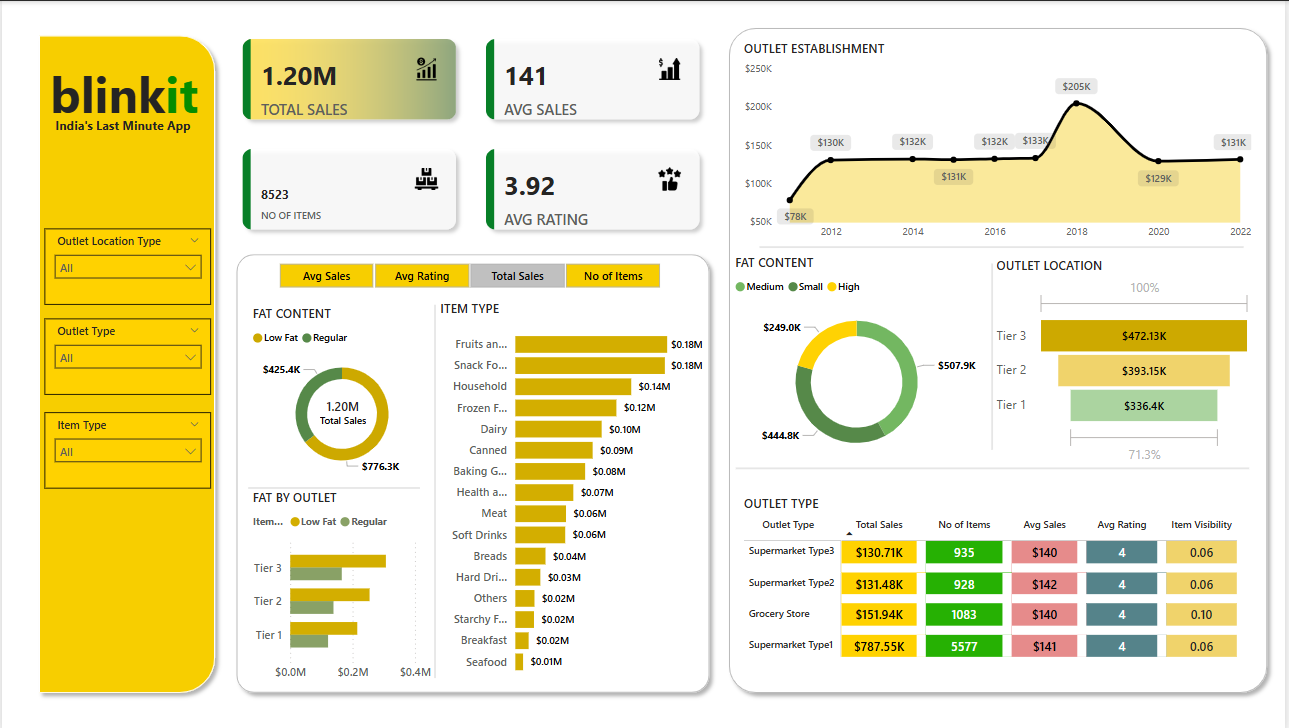

The page's visual inventory and layout, read from the dashboard file:
{"tool":"powerbi","page":{"name":"Page 1","canvas":[1400,800],"ordinal":0},"visuals":[{"type":"shape","box":[31.7,28.3,210,735],"z":0},{"type":"textbox","box":[48,60,194,82],"z":1000},{"type":"textbox","box":[53.8,121.9,166.2,30],"z":2000},{"type":"cardVisual","fields":{"Data":["BlinkIT Grocery Data.Total Sales","BlinkIT Grocery Data.Avg Sales","BlinkIT Grocery Data.No of Items","BlinkIT Grocery Data.Avg Rating"]},"box":[245.4,24.8,532.9,242.9],"z":3000},{"type":"shape","box":[246.2,267.5,533.8,496.2],"z":4000},{"type":"donutChart","title":"FAT CONTENT","fields":{"Y":["BlinkIT Grocery Data.Total Sales"],"Category":["BlinkIT Grocery Data.Item Fat Content"]},"box":[268.3,331.7,205,193.3],"z":5000},{"type":"slicer","fields":{"Values":["Metrics.Metrics"]},"box":[276.2,280,465,40],"z":6000},{"type":"cardVisual","fields":{"Data":["BlinkIT Grocery Data.Total Sales"]},"box":[320,413.3,103.3,70],"z":7000},{"type":"clusteredBarChart","title":"FAT BY OUTLET","fields":{"Y":["BlinkIT Grocery Data.Total Sales"],"Category":["BlinkIT Grocery Data.Outlet Location Type"],"Series":["BlinkIT Grocery Data.Item Fat Content"]},"box":[268.3,531.7,205,218.3],"z":8000},{"type":"shape","box":[268.8,525,187.5,12.5],"z":9000},{"type":"shape","box":[463.8,331.2,17.5,407.5],"z":10000},{"type":"barChart","title":"ITEM TYPE","fields":{"Y":["BlinkIT Grocery Data.Total Sales"],"Category":["BlinkIT Grocery Data.Item Type"]},"box":[472.5,326.2,296.2,418.8],"z":11000},{"type":"shape","box":[783.3,20,605,743.3],"z":12000},{"type":"lineChart","title":"OUTLET ESTABLISHMENT","fields":{"Category":["BlinkIT Grocery Data.Outlet Establishment Year"],"Y":["BlinkIT Grocery Data.Total Sales"]},"box":[805,41.7,563.3,226.7],"z":13000},{"type":"shape","box":[826.7,261.7,528.3,13.3],"z":14000},{"type":"donutChart","title":"FAT CONTENT","fields":{"Y":["BlinkIT Grocery Data.Total Sales"],"Category":["BlinkIT Grocery Data.Outlet Size"]},"box":[795,275,275,235],"z":15000},{"type":"shape","box":[1071.7,286.7,16.7,203.3],"z":16000},{"type":"funnel","title":"OUTLET LOCATION","fields":{"Category":["BlinkIT Grocery Data.Outlet Location Type"],"Y":["BlinkIT Grocery Data.Total Sales"]},"box":[1080,280,288.3,230],"z":17000},{"type":"shape","box":[800,503.3,560,13.3],"z":18000},{"type":"pivotTable","title":"OUTLET TYPE","fields":{"Rows":["BlinkIT Grocery Data.Outlet Type"],"Values":["BlinkIT Grocery Data.Total Sales","BlinkIT Grocery Data.No of Items","BlinkIT Grocery Data.Avg Sales","BlinkIT Grocery Data.Avg Rating","Avg(BlinkIT Grocery Data.Item Visibility)"]},"box":[805,538.3,571.7,186.7],"z":19000},{"type":"slicer","fields":{"Values":["BlinkIT Grocery Data.Outlet Location Type"]},"box":[46.7,248.3,181.7,83.3],"z":19001},{"type":"slicer","fields":{"Values":["BlinkIT Grocery Data.Outlet Type"]},"box":[46.7,346.7,181.7,83.3],"z":19002},{"type":"slicer","fields":{"Values":["BlinkIT Grocery Data.Item Type"]},"box":[46.7,448.3,181.7,83.3],"z":19003}]}

Visuals, with their boxes in screenshot pixels (x1, y1, x2, y2), scaled from the page's 1400x800 canvas onto the 1289x728 screenshot:
shape: (29, 26, 223, 695)
textbox: (44, 55, 223, 129)
textbox: (50, 111, 203, 138)
cardVisual - BlinkIT Grocery Data.Total Sales x BlinkIT Grocery Data.Avg Sales: (226, 23, 717, 244)
shape: (227, 243, 718, 695)
"FAT CONTENT" donutChart: (247, 302, 436, 478)
slicer - Metrics.Metrics: (254, 255, 682, 291)
cardVisual - BlinkIT Grocery Data.Total Sales: (295, 376, 390, 440)
"FAT BY OUTLET" clusteredBarChart: (247, 484, 436, 682)
shape: (247, 478, 420, 489)
shape: (427, 301, 443, 672)
"ITEM TYPE" barChart: (435, 297, 708, 678)
shape: (721, 18, 1278, 695)
"OUTLET ESTABLISHMENT" lineChart: (741, 38, 1260, 244)
shape: (761, 238, 1248, 250)
"FAT CONTENT" donutChart: (732, 250, 985, 464)
shape: (987, 261, 1002, 446)
"OUTLET LOCATION" funnel: (994, 255, 1260, 464)
shape: (737, 458, 1252, 470)
"OUTLET TYPE" pivotTable: (741, 490, 1268, 660)
slicer - BlinkIT Grocery Data.Outlet Location Type: (43, 226, 210, 302)
slicer - BlinkIT Grocery Data.Outlet Type: (43, 315, 210, 391)
slicer - BlinkIT Grocery Data.Item Type: (43, 408, 210, 484)
